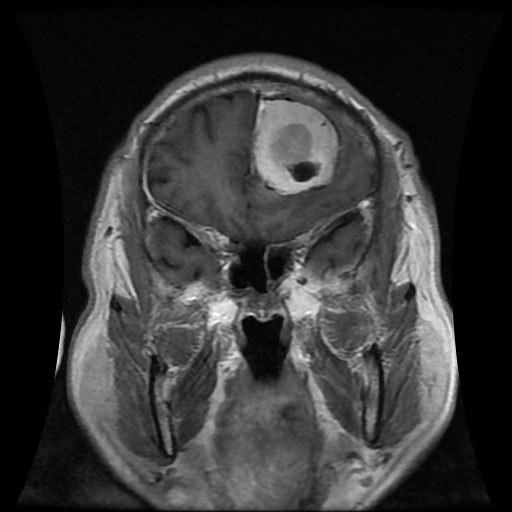meningioma: (254, 99, 337, 194)
